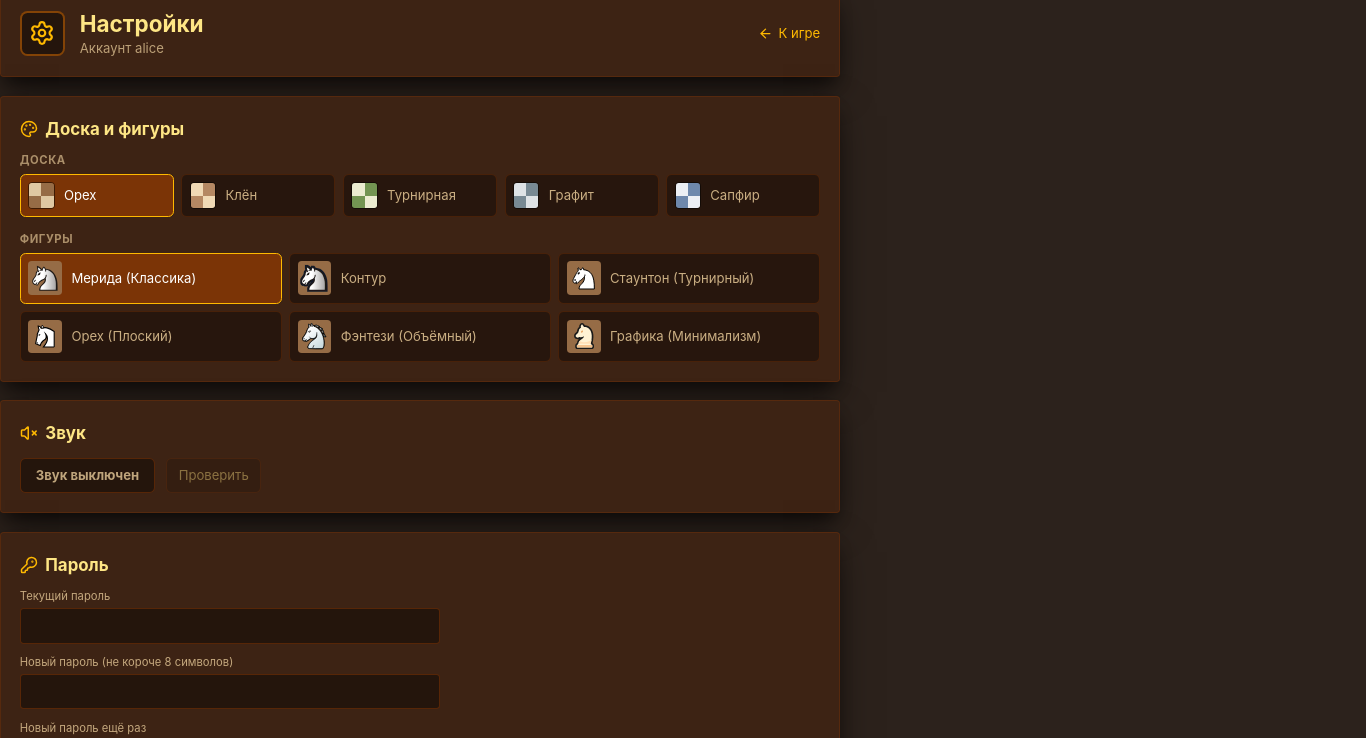
Test: Settings: смена пароля › успешная смена подменяет токен и заранее отключает WebSocket
Type "old-password" into the password field labelled "Текущий пароль" at x=230, y=626, box [20,608,440,644]
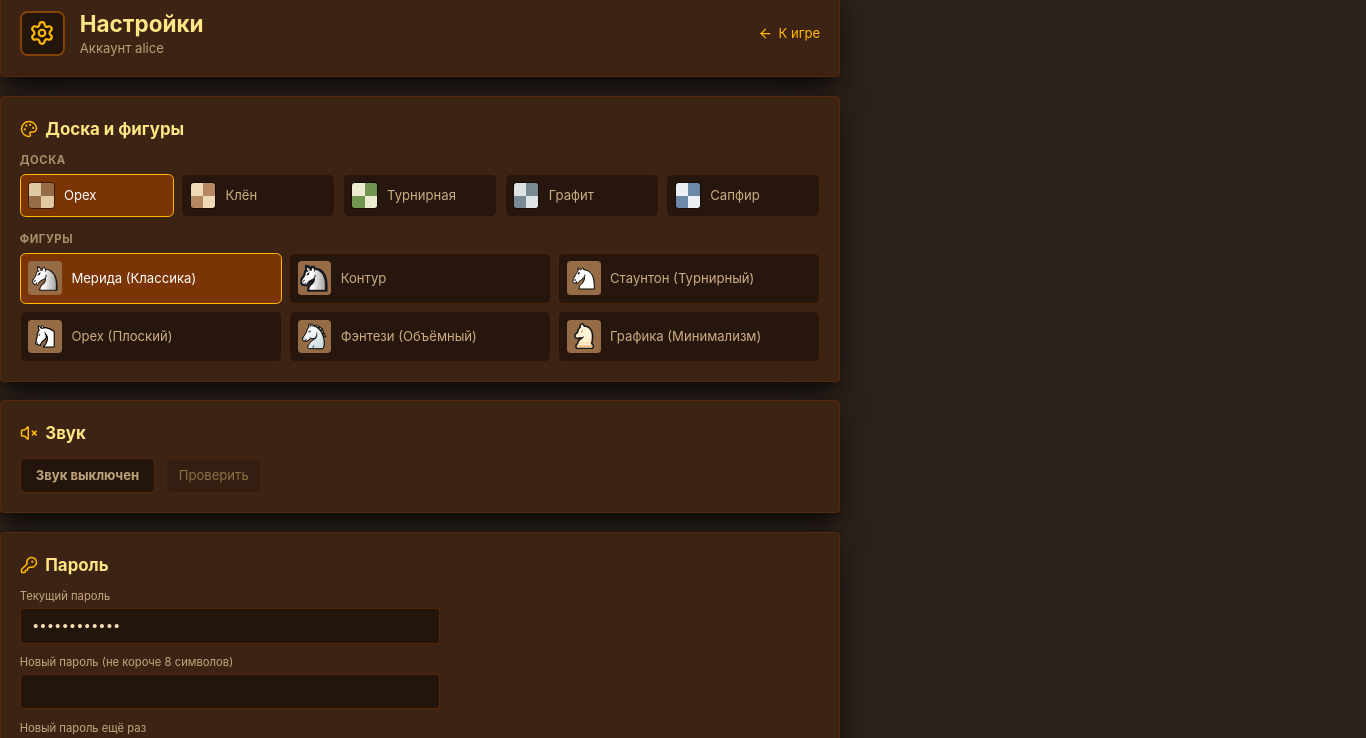
Type "new-password-1" into the password field labelled "Новый пароль (не короче 8 символов)" at x=230, y=691, box [20,674,440,709]
(page scrolled)
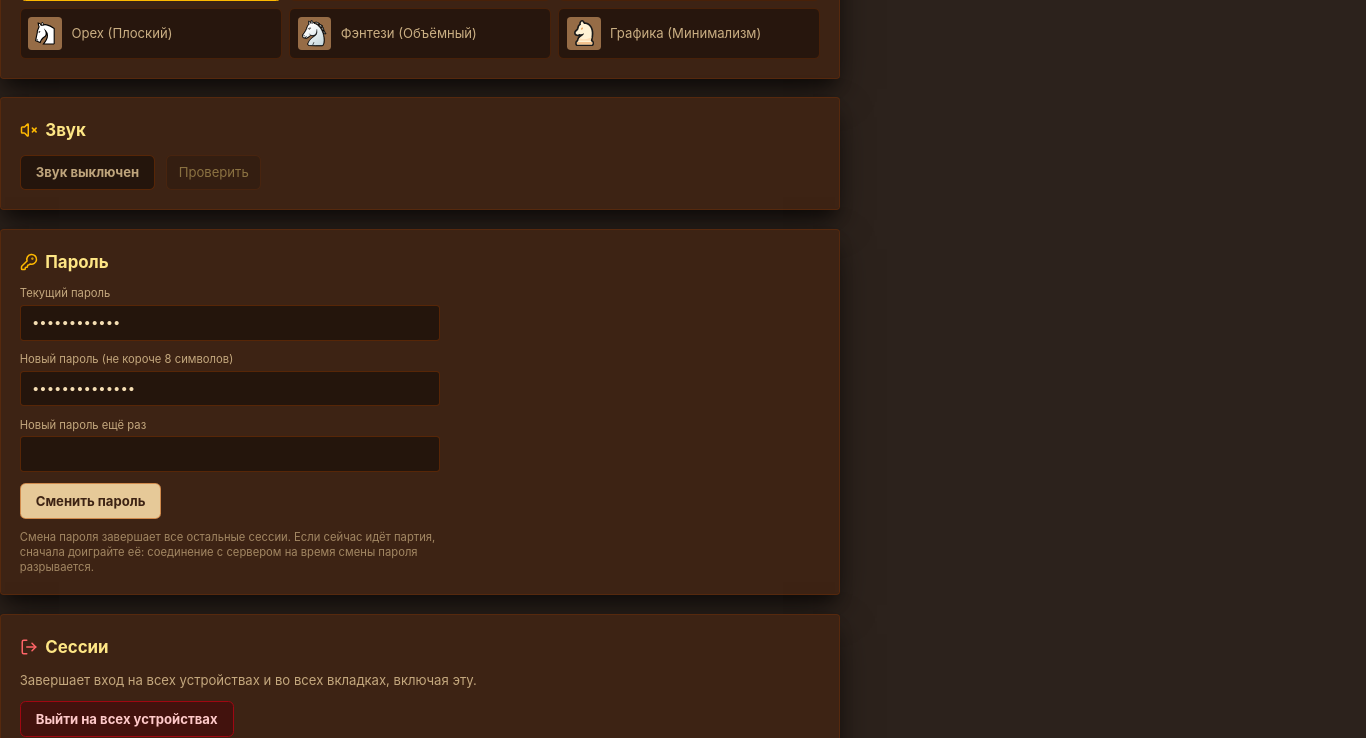
Type "new-password-1" into the password field labelled "Новый пароль ещё раз" at x=230, y=454, box [20,436,440,472]
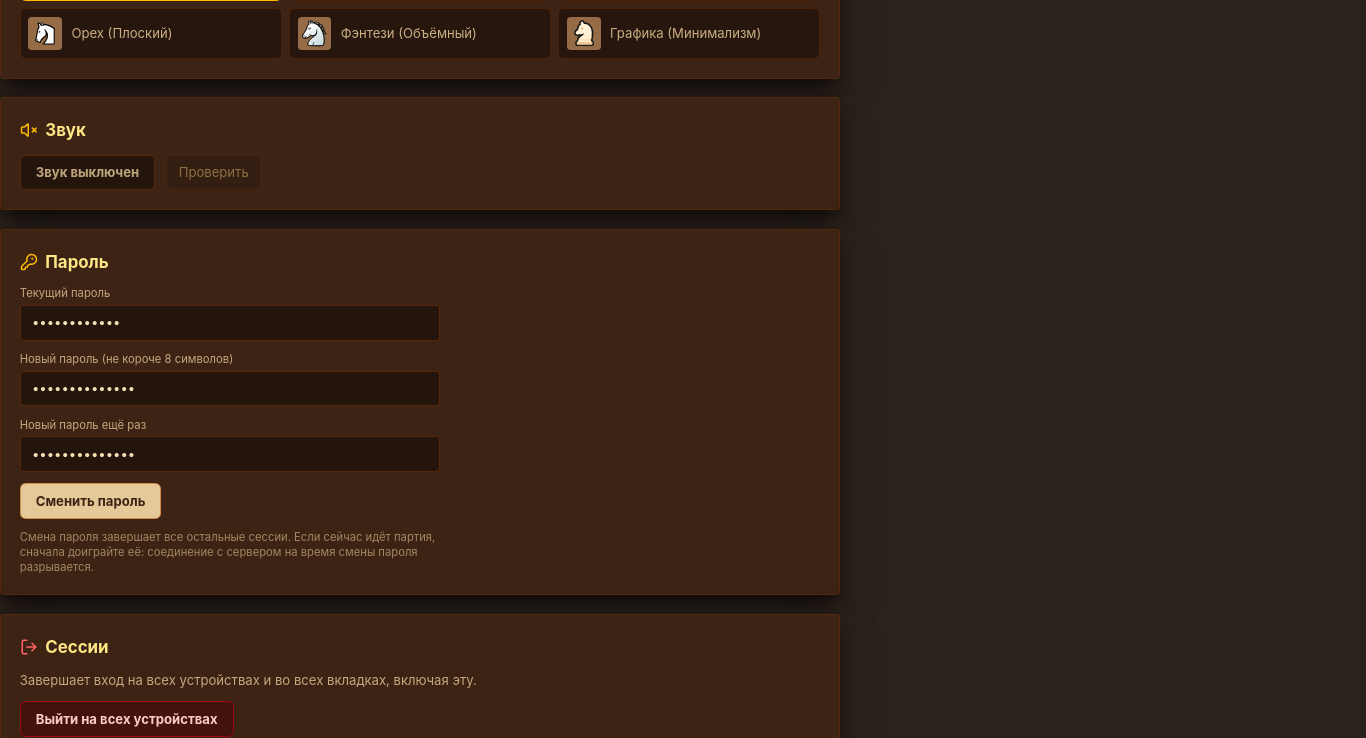
Click the button "Сменить пароль" at x=91, y=501, box [20,483,162,519]
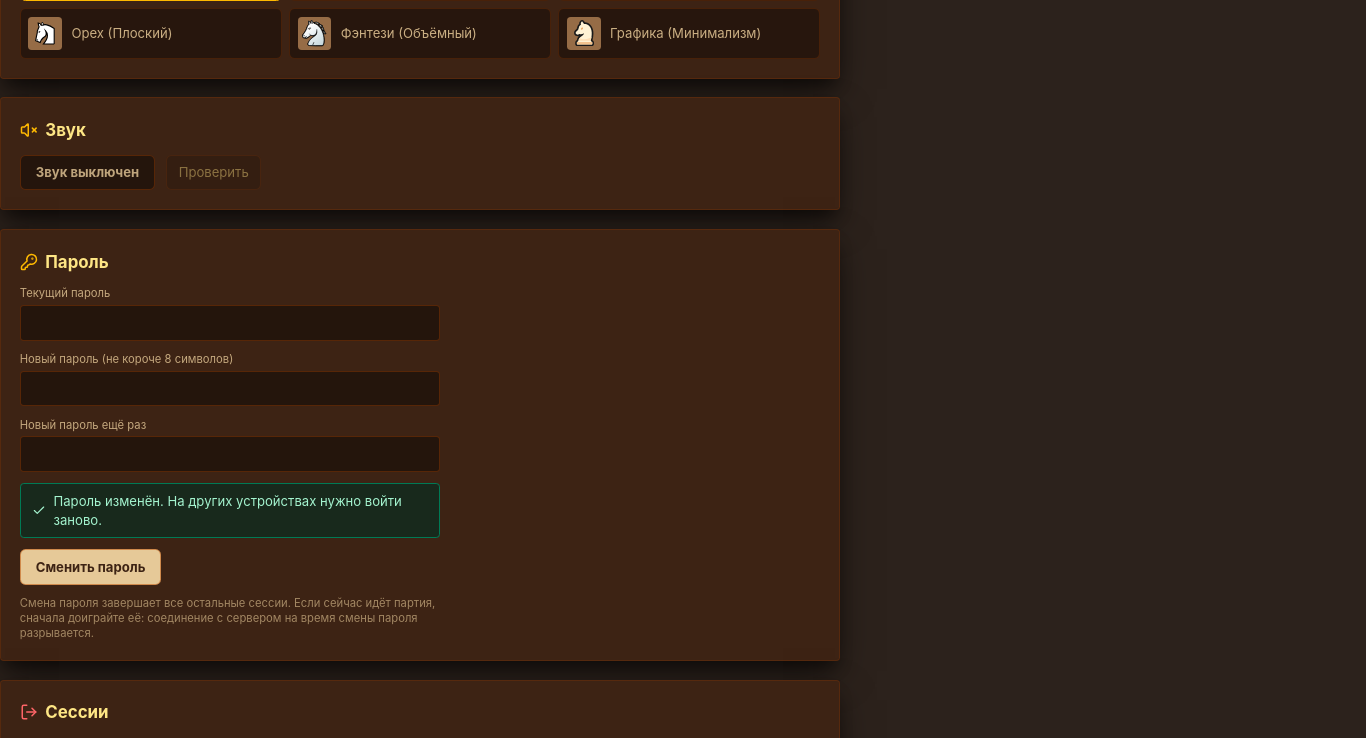
Check: the message shows "Пароль изменён", box [54,493,402,528]
